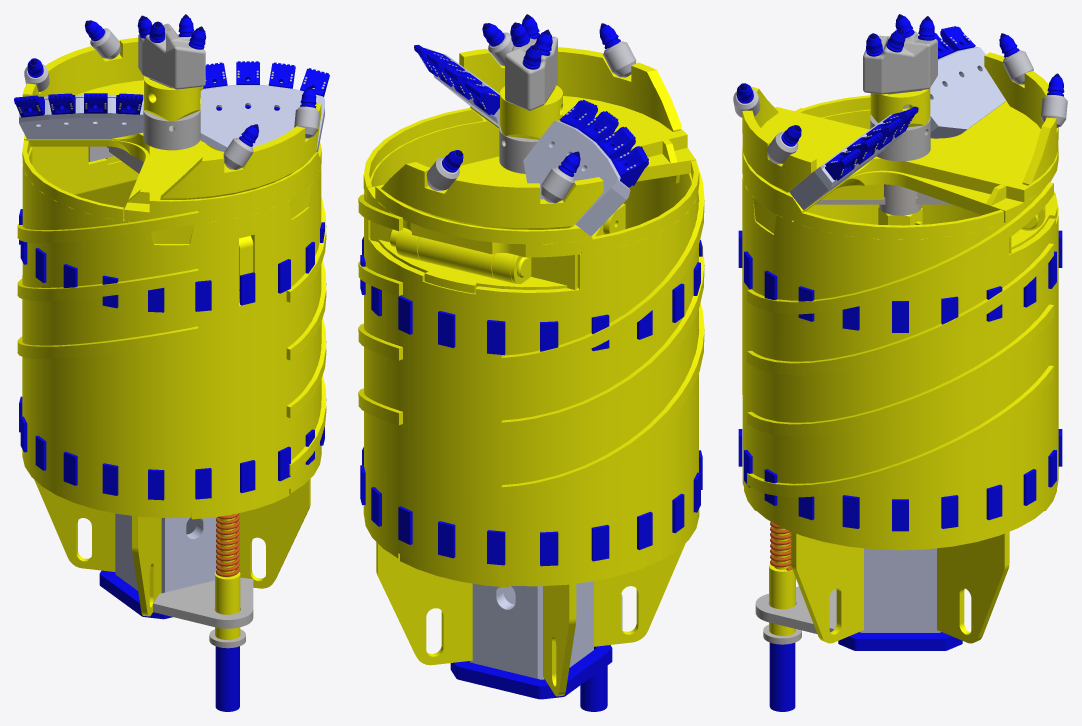
The model's file is carandina-bkt100.glb.
3 renders of one model, left to right at view 1: azimuth 30°, elevation 25°; view 2: azimuth 150°, elevation 25°; view 3: azimuth 270°, elevation 25°, orthographic. The views are drawn at different scales.
Visible parts, largest first — view 1: NAUO72, NAUO37, NAUO33, NAUO35, NAUO74, NAUO80, NAUO39, NAUO138, NAUO45, NAUO42, NAUO77, NAUO12 (+35 smaller); view 2: NAUO72, NAUO39, NAUO37, NAUO81, NAUO35, NAUO139, NAUO42, NAUO79, NAUO133, NAUO135, NAUO132, NAUO45 (+35 smaller); view 3: NAUO72, NAUO37, NAUO141, NAUO80, NAUO81, NAUO89, NAUO42, NAUO134, NAUO87, NAUO88, NAUO45, NAUO12 (+27 smaller).
Boxes of the visible parts, x1=… form: NAUO72: x1=22, y1=144, x2=321, y2=518; NAUO37: x1=24, y1=80, x2=319, y2=212; NAUO33: x1=200, y1=85, x2=324, y2=152; NAUO35: x1=160, y1=104, x2=321, y2=199; NAUO74: x1=31, y1=146, x2=138, y2=208; NAUO80: x1=235, y1=478, x2=310, y2=588; NAUO39: x1=22, y1=37, x2=143, y2=96; NAUO138: x1=161, y1=517, x2=216, y2=593; NAUO45: x1=26, y1=98, x2=319, y2=223; NAUO42: x1=19, y1=94, x2=143, y2=138; NAUO77: x1=34, y1=480, x2=115, y2=571; NAUO12: x1=138, y1=23, x2=205, y2=89; NAUO72: x1=363, y1=118, x2=699, y2=586; NAUO39: x1=381, y1=162, x2=603, y2=229; NAUO37: x1=375, y1=96, x2=687, y2=244; NAUO81: x1=376, y1=542, x2=472, y2=665; NAUO35: x1=459, y1=47, x2=681, y2=131; NAUO139: x1=472, y1=583, x2=543, y2=679; NAUO42: x1=523, y1=120, x2=630, y2=236; NAUO79: x1=594, y1=543, x2=685, y2=646; NAUO133: x1=501, y1=303, x2=704, y2=499; NAUO135: x1=501, y1=164, x2=704, y2=369; NAUO132: x1=501, y1=238, x2=704, y2=434; NAUO45: x1=367, y1=110, x2=695, y2=257; NAUO72: x1=742, y1=109, x2=1058, y2=550; NAUO37: x1=742, y1=101, x2=1058, y2=212; NAUO141: x1=864, y1=548, x2=935, y2=632; NAUO80: x1=791, y1=531, x2=863, y2=643; NAUO81: x1=937, y1=531, x2=1009, y2=643; NAUO89: x1=747, y1=304, x2=1053, y2=436; NAUO42: x1=930, y1=47, x2=1006, y2=138; NAUO134: x1=747, y1=365, x2=1053, y2=497; NAUO87: x1=747, y1=182, x2=1053, y2=314; NAUO88: x1=747, y1=243, x2=1053, y2=375; NAUO45: x1=742, y1=159, x2=1045, y2=222; NAUO12: x1=863, y1=31, x2=937, y2=108.
Size of the model in its own units: 0.97 by 2.24 by 0.9935.
